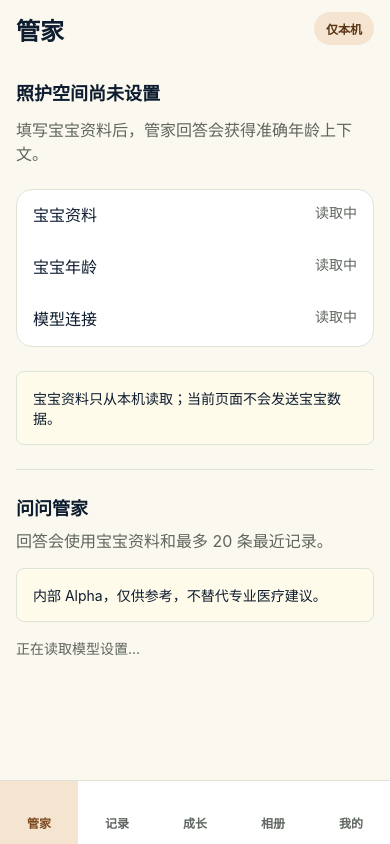
Test: visits 成长 through its accessible tab
The width and height of the screenshot is (390, 844).
Expected: the heading "照护空间尚未设置" is shown, [16,83,160,104]
Click the tab labelled "成长" at coordinates (195, 824), box [183,816,207,831]
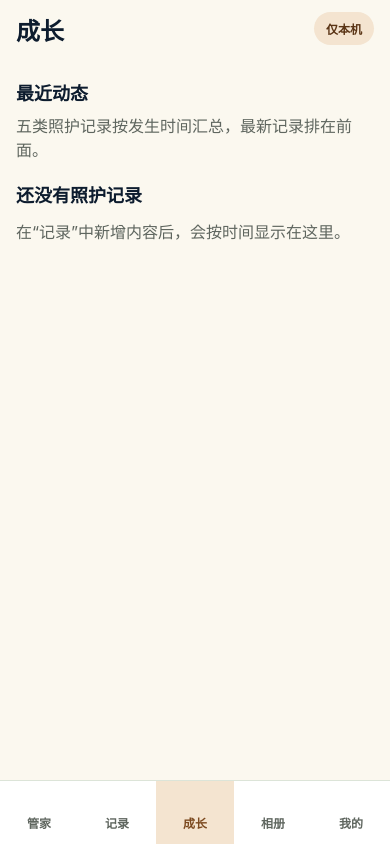
Now the heading "最近动态" is shown, box [16,83,88,104]
